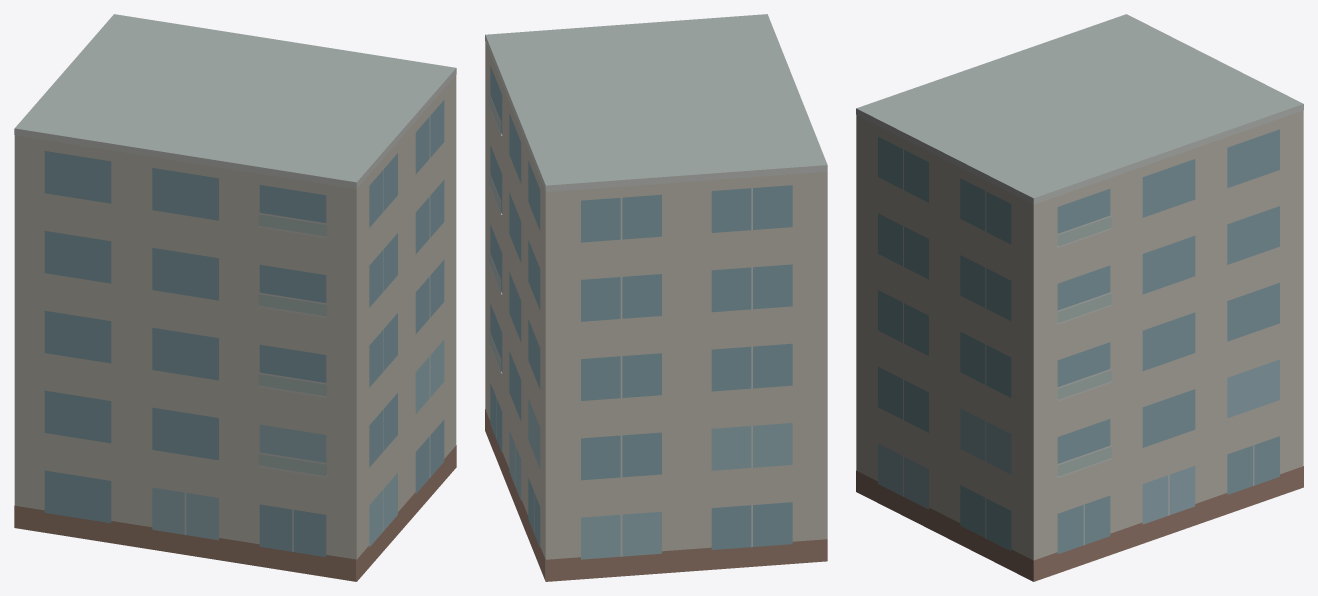
Rendered from survey-upis-32844865.glb.
3 renders of one model, left to right at view 1: azimuth 30°, elevation 25°; view 2: azimuth 150°, elevation 25°; view 3: azimuth 270°, elevation 25°, orthographic. The views are drawn at different scales.
Parts seen in each view (by area): view 1: survey-upis-32844865.tmp; view 2: survey-upis-32844865.tmp; view 3: survey-upis-32844865.tmp.
Part boxes in pixels (<box>): survey-upis-32844865.tmp: <box>14,14,456,581</box>; survey-upis-32844865.tmp: <box>485,14,827,581</box>; survey-upis-32844865.tmp: <box>856,14,1303,581</box>.
Size of the model in its own units: 15.06 by 14.6 by 15.45.
